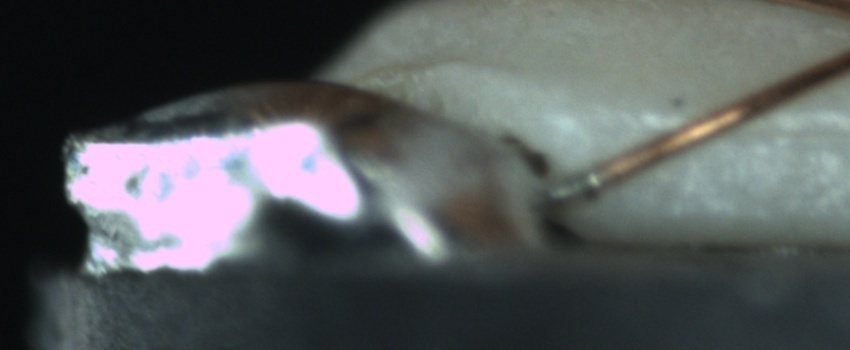DL: (623, 95, 849, 159)
TS: (537, 175, 599, 208)
